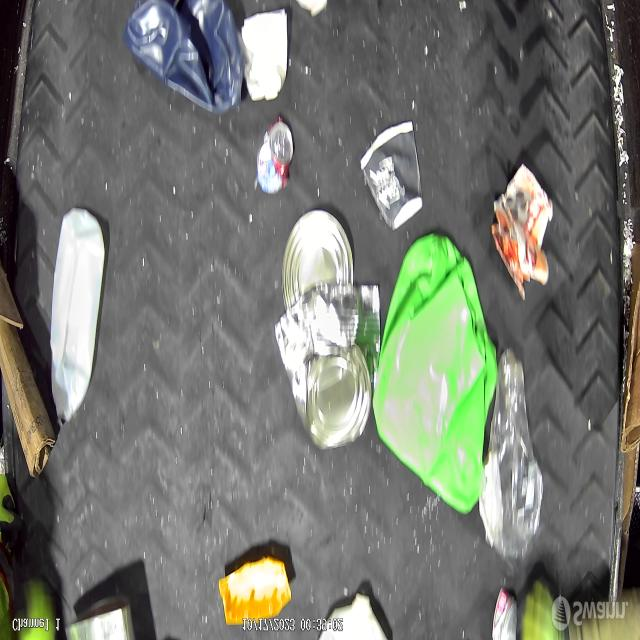can: (276, 284, 381, 453), (281, 210, 355, 314), (256, 120, 294, 195)
milk_jug: (49, 208, 105, 426)
non_white_jug: (373, 235, 498, 513), (123, 1, 244, 115)
plastic_bottle: (479, 350, 542, 559)
